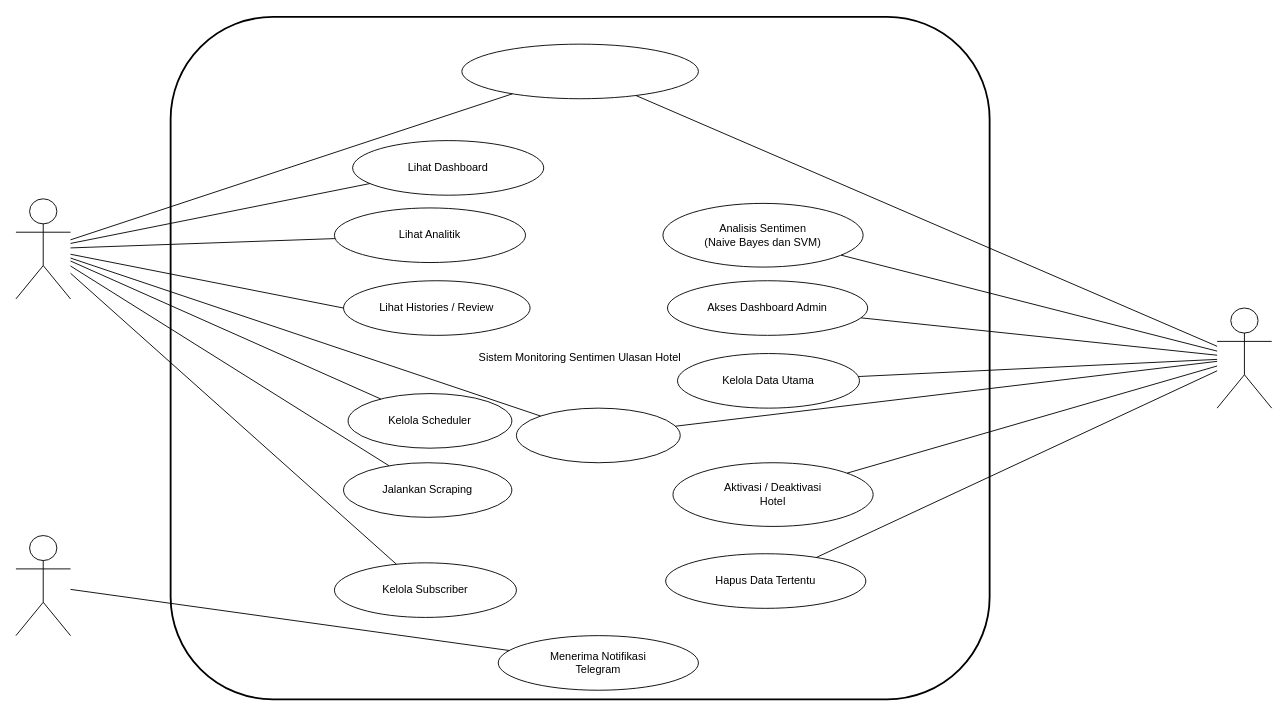
Some shapes in this 1288 by 715 pixel diagram are drawn without their labels. The box of each missing label's shape, as (x1, y1, x2, y2) in pixels:
Admin: (1216, 307, 1272, 408)
Lihat Notifikasi: (516, 407, 680, 463)
Login / Register / Logout: (461, 43, 698, 99)
Telegram Subscriber: (15, 535, 71, 636)
User: (15, 198, 71, 299)
